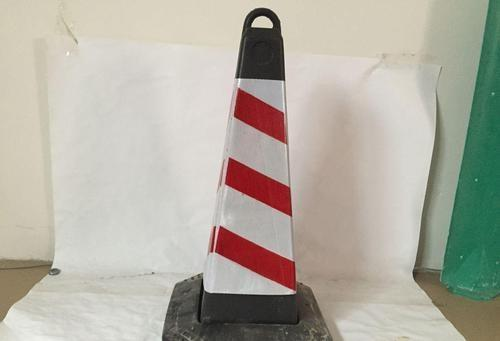cone_barrel: (187, 14, 309, 326)
